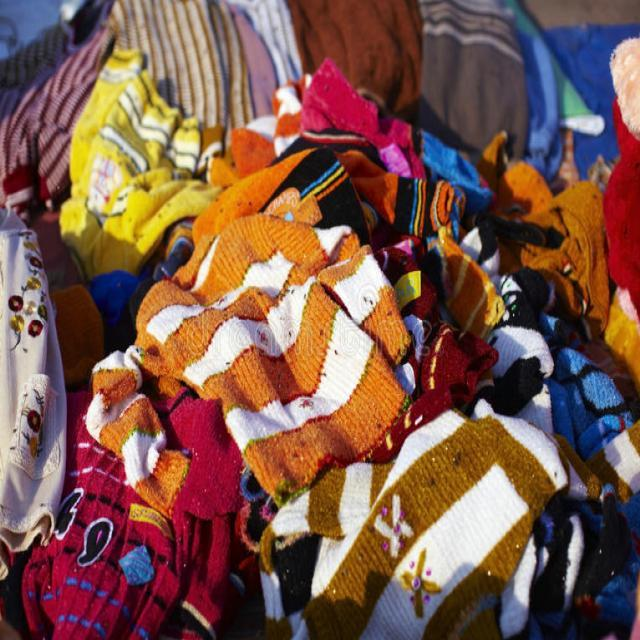clothes: (42, 130, 624, 582)
